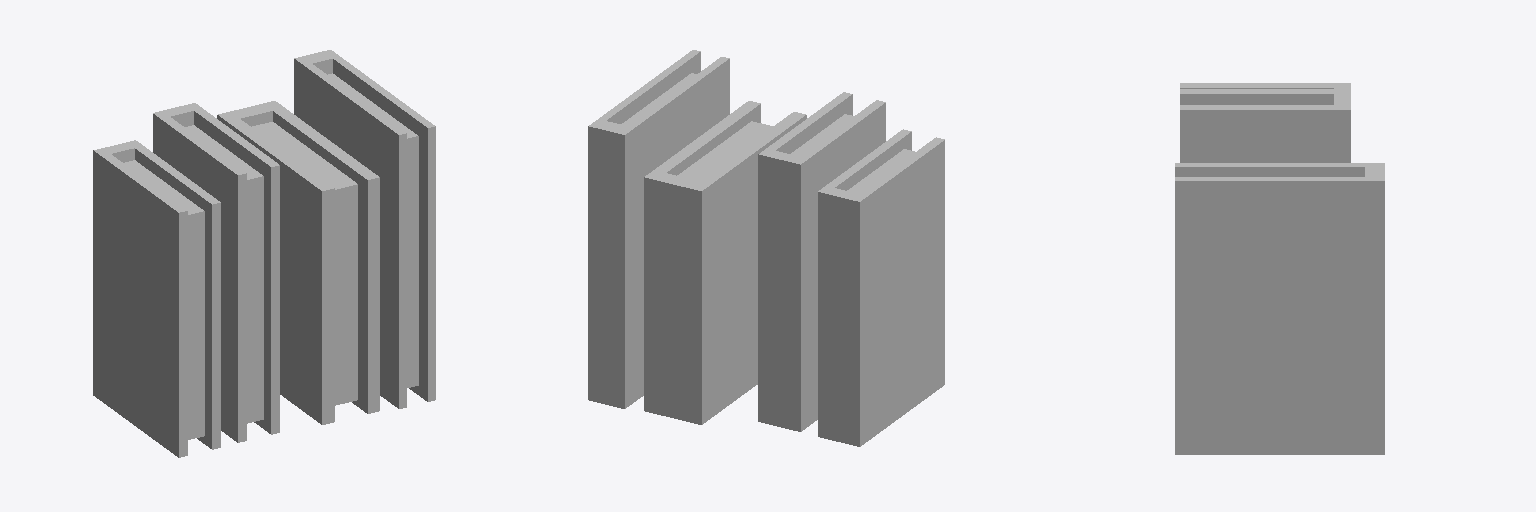
The model's file is Livros.obj.
The picture shows the model from 3 angles: view 1: azimuth 30°, elevation 25°; view 2: azimuth 150°, elevation 25°; view 3: azimuth 270°, elevation 25°; orthographic projection.
Parts seen in each view (by area): view 1: Livro_comodo:Mesh22; view 2: Livro_comodo:Mesh22; view 3: Livro_comodo:Mesh22.
Part boxes in pixels (x1,y1,x2,y2): Livro_comodo:Mesh22: (93, 50, 435, 457); Livro_comodo:Mesh22: (588, 50, 944, 446); Livro_comodo:Mesh22: (1175, 83, 1384, 454).
Bounding box in the file's own units: 0.6691 × 0.6889 × 0.4778.